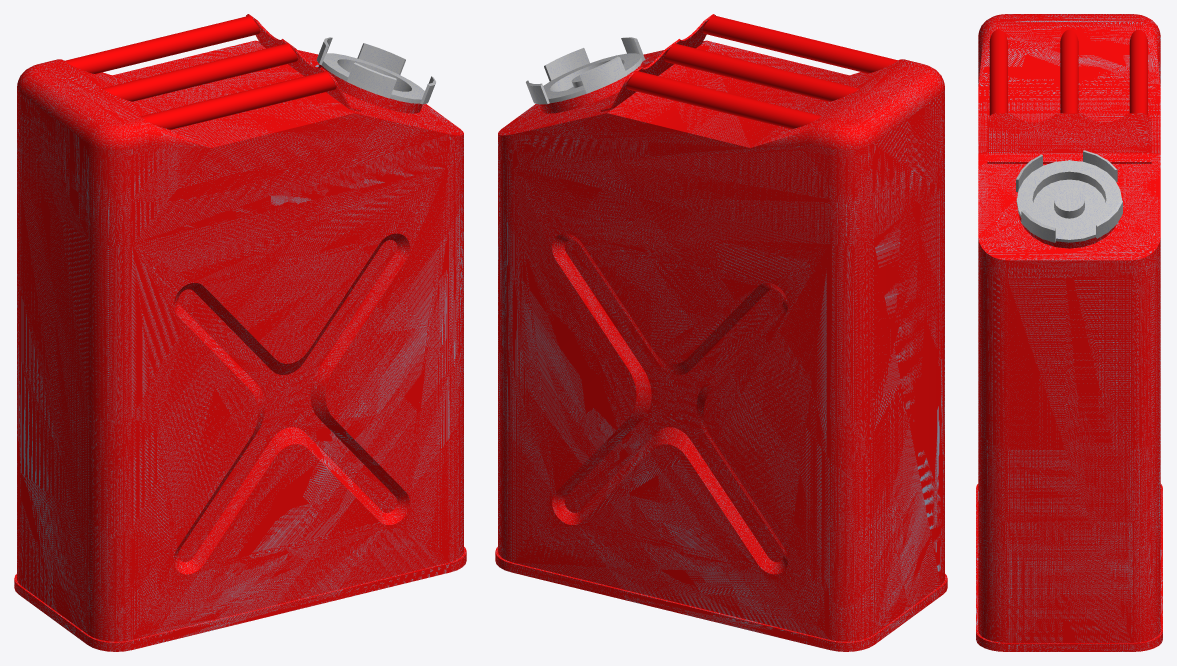
Rendered from gas.dae.
3 renders of one model, left to right at view 1: azimuth 30°, elevation 25°; view 2: azimuth 150°, elevation 25°; view 3: azimuth 270°, elevation 25°, orthographic. The views are drawn at different scales.
Parts seen in each view (by area): view 1: group_2 (×3), group_4, group_6, group_5, group_1, group_3; view 2: group_2 (×3), group_1, group_4, group_6, group_5, group_3; view 3: group_2 (×2), group_1, group_3, group_4, group_6, group_5.
Part boxes in pixels (x1,y1,x2,y2): group_2 (×3): (14, 40, 466, 651); group_4: (140, 71, 336, 129); group_6: (65, 16, 260, 73); group_5: (102, 43, 297, 101); group_1: (316, 37, 435, 104); group_3: (246, 14, 361, 111); group_2 (×3): (495, 40, 947, 651); group_1: (526, 37, 645, 104); group_4: (702, 15, 897, 73); group_6: (626, 71, 821, 129); group_5: (664, 43, 859, 101); group_3: (600, 14, 715, 111); group_2 (×2): (976, 14, 1162, 651); group_1: (1016, 150, 1122, 242); group_3: (987, 113, 1151, 163); group_4: (989, 29, 1007, 115); group_6: (1129, 29, 1147, 114); group_5: (1060, 29, 1078, 113).
Size of the model in its own units: 13.62 by 6.4 by 18.
